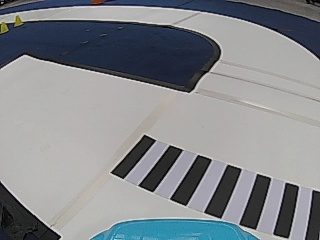CrossWalk: (116, 139, 314, 221)
